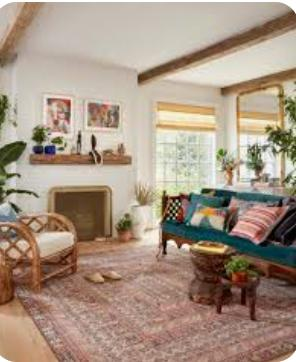carpet: (17, 241, 296, 362)
